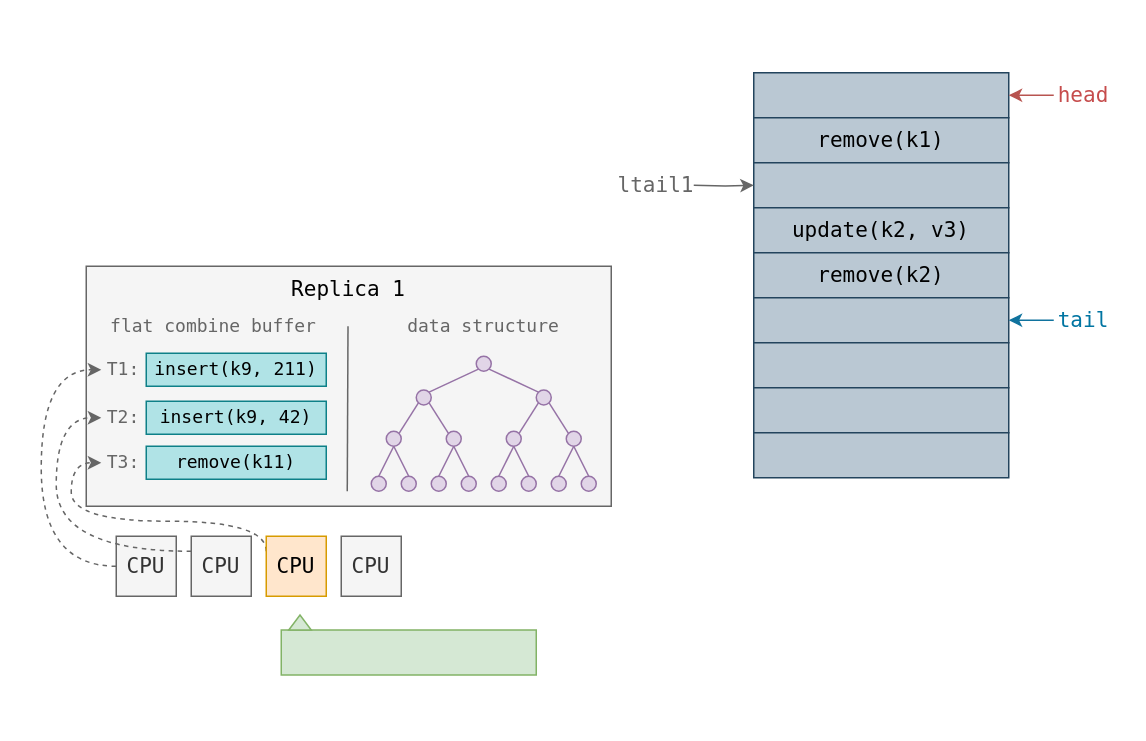
Some shapes in this 1146 by 741 pixel diagram are drawn without their labels. Each missing label, with the centre of its shape:
2. elect a combiner: (408,651)
insert(k1, v1): (880,94)
insert(k2, v2): (880,184)
